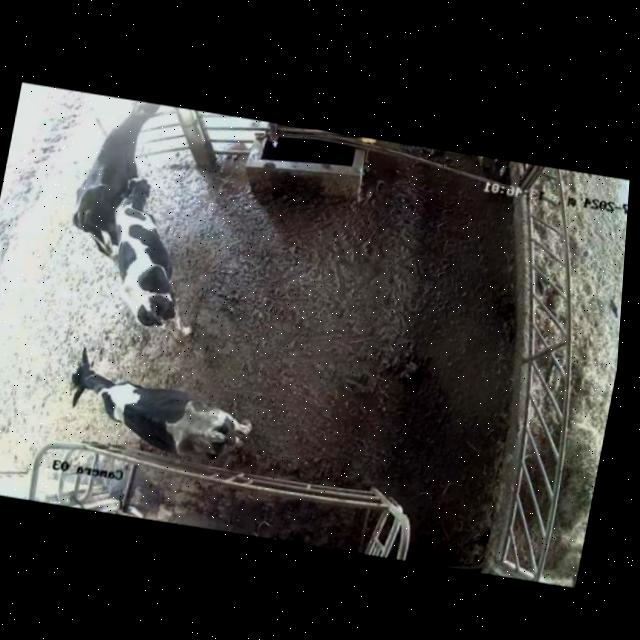stand: (38, 334, 278, 472), (83, 170, 215, 351), (54, 89, 165, 259)
